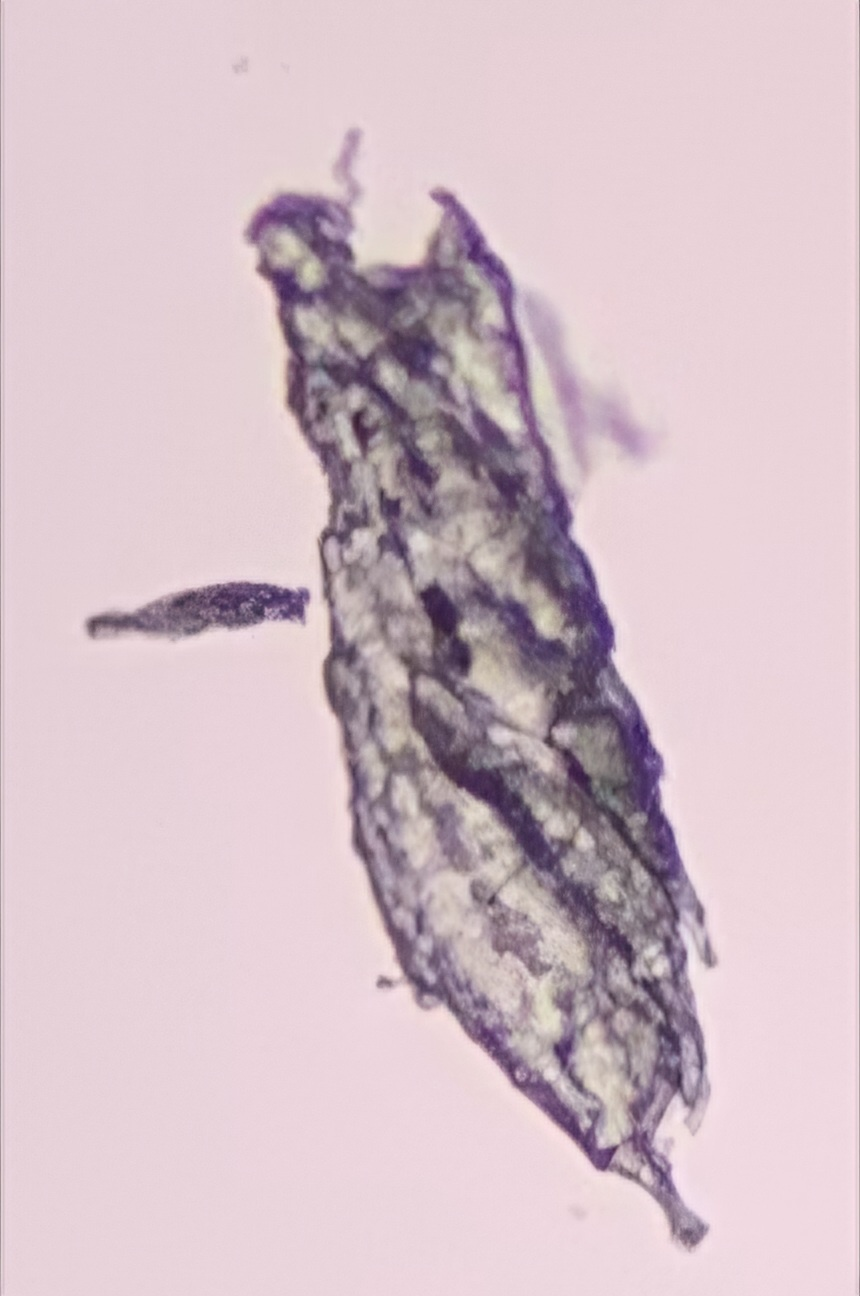microplastic: (238, 124, 721, 1250), (86, 581, 311, 642)
